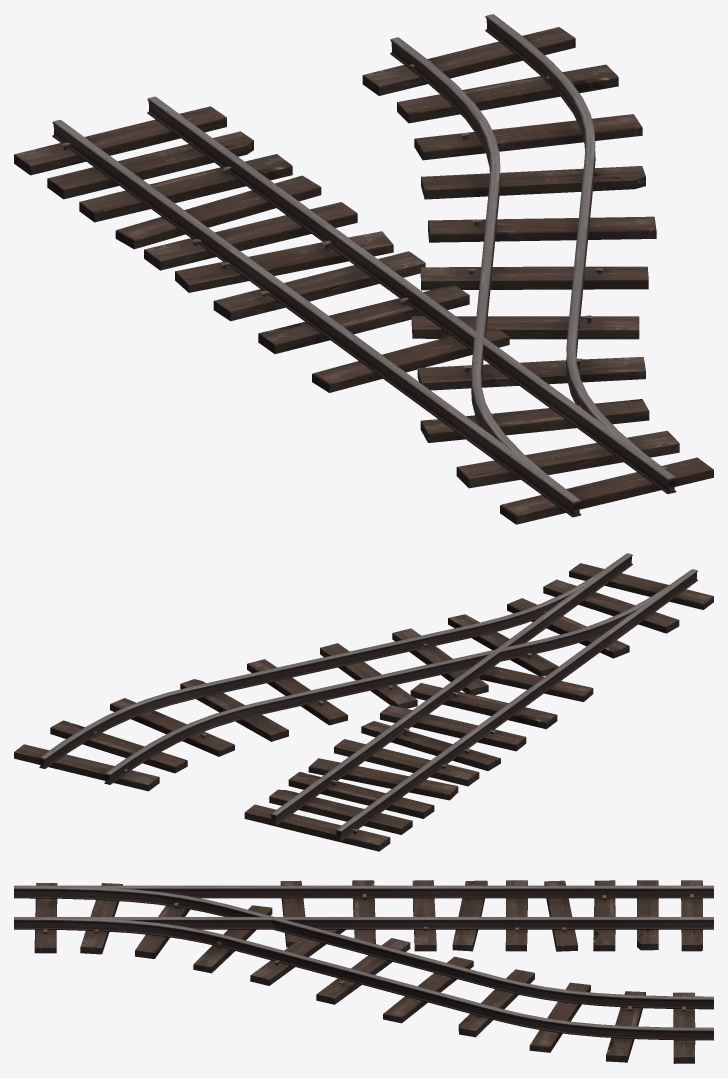
The picture shows the model from 3 angles, top to bottom: view 1: azimuth 30°, elevation 25°; view 2: azimuth 150°, elevation 25°; view 3: azimuth 270°, elevation 25°; orthographic projection. The views are drawn at different scales.
Parts seen in each view (by area): view 1: body0_model0_lod0_mesh0; view 2: body0_model0_lod0_mesh0; view 3: body0_model0_lod0_mesh0.
Part boxes in pixels (x1=…): body0_model0_lod0_mesh0: x1=14, y1=14, x2=713, y2=524; body0_model0_lod0_mesh0: x1=14, y1=553, x2=713, y2=851; body0_model0_lod0_mesh0: x1=14, y1=880, x2=713, y2=1063.
Bounding box in the file's own units: 154 × 6.72 × 256.
Materials: 1 (1 with a texture image).
